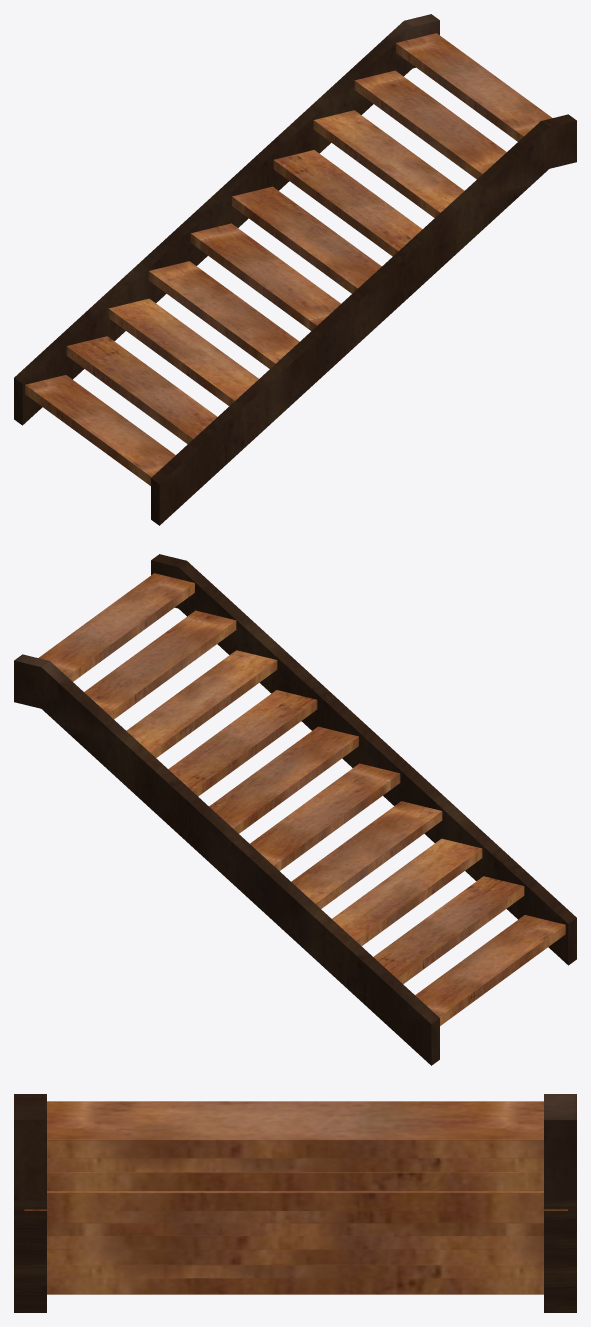
Rendered from wood_stairs.glb.
The picture shows the model from 3 angles, top to bottom: view 1: azimuth 30°, elevation 25°; view 2: azimuth 150°, elevation 25°; view 3: azimuth 270°, elevation 25°; orthographic projection. The views are drawn at different scales.
Parts seen in each view (by area): view 1: Object_2; view 2: Object_2; view 3: Object_2.
Part boxes in pixels (x1,y1,x2,y2): Object_2: [14, 14, 576, 525]; Object_2: [14, 554, 576, 1065]; Object_2: [14, 1094, 576, 1312].
Bounding box in the file's own units: 336 × 233 × 203.
1 material, 1 textured.
